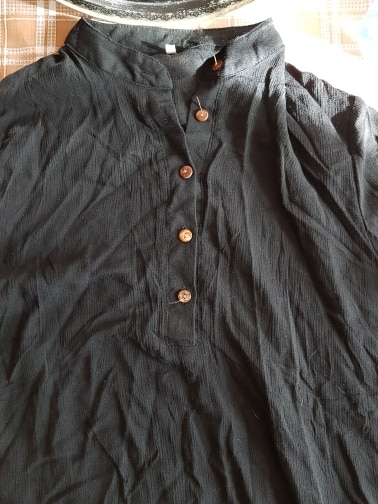shirts: (14, 17, 378, 502)
